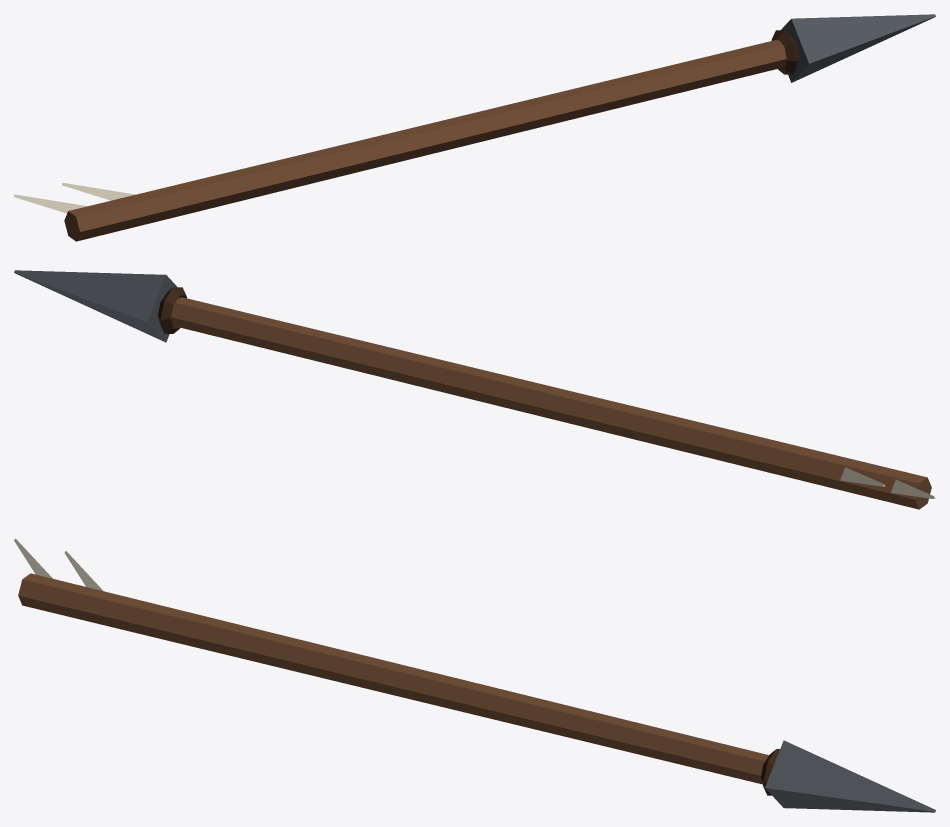
Rendered from spear.glb.
3 views of the same model, one above another, from view 1: azimuth 30°, elevation 25°; view 2: azimuth 150°, elevation 25°; view 3: azimuth 330°, elevation 25° (orthographic). The views are drawn at different scales.
Visible parts, largest first — view 1: Spear; view 2: Spear; view 3: Spear.
Part boxes in pixels (left/top/right/bottom): Spear: left=14, top=14, right=935, bottom=241; Spear: left=14, top=270, right=935, bottom=509; Spear: left=14, top=538, right=935, bottom=812.
Size of the model in its own units: 1.31 by 0.09 by 0.1066.
